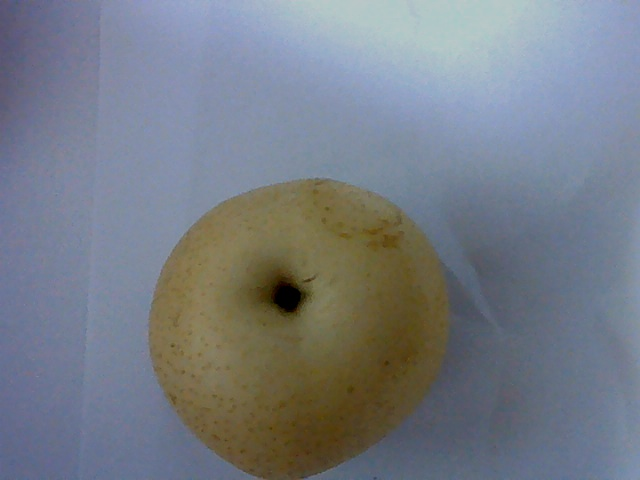pear: (145, 177, 460, 480)
